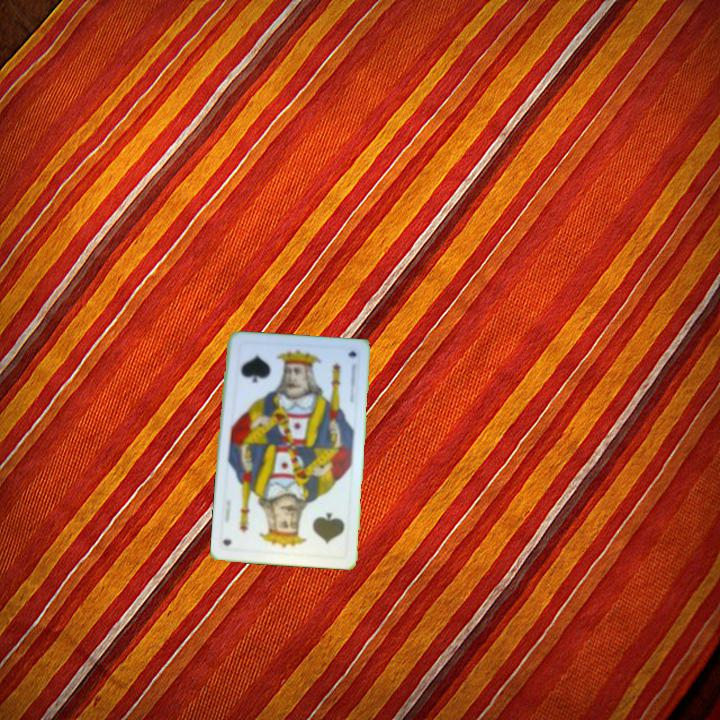s_k.png: (230, 340, 300, 402), (281, 497, 351, 559)
